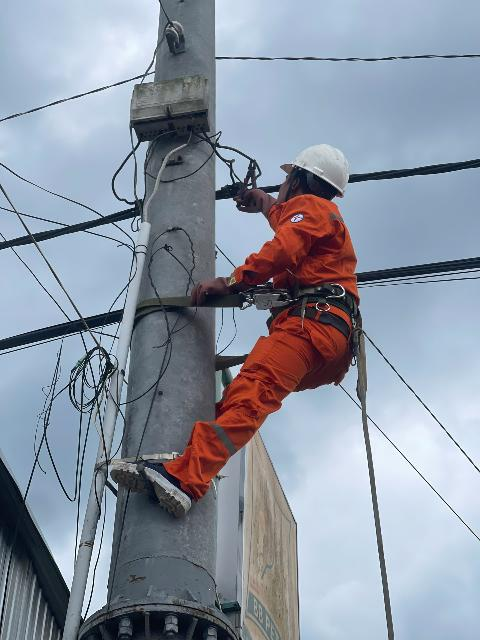gloves: (179, 270, 253, 305), (228, 182, 285, 227)
harness: (260, 272, 362, 344)
helmet: (285, 127, 366, 197)
shoes: (104, 432, 224, 522)
